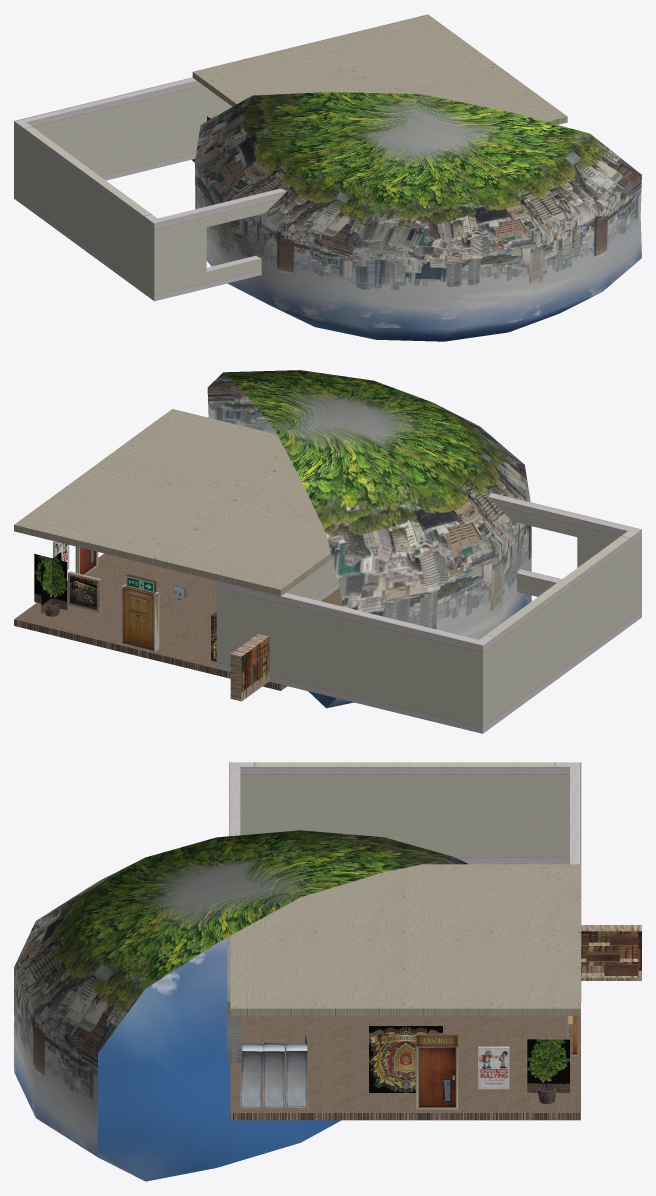
Rendered from Office.glb.
The picture shows the model from 3 angles, top to bottom: view 1: azimuth 30°, elevation 25°; view 2: azimuth 150°, elevation 25°; view 3: azimuth 270°, elevation 25°; orthographic projection. The views are drawn at different scales.
Visible parts, largest first — view 1: Office; view 2: Office; view 3: Office.
Boxes of the visible parts, x1,y1,x2,y2 form: Office: (14,14,641,341); Office: (14,370,641,733); Office: (14,762,641,1181).
Size of the model in its own units: 174 by 74.62 by 173.
Materials: 19 (18 with a texture image).
